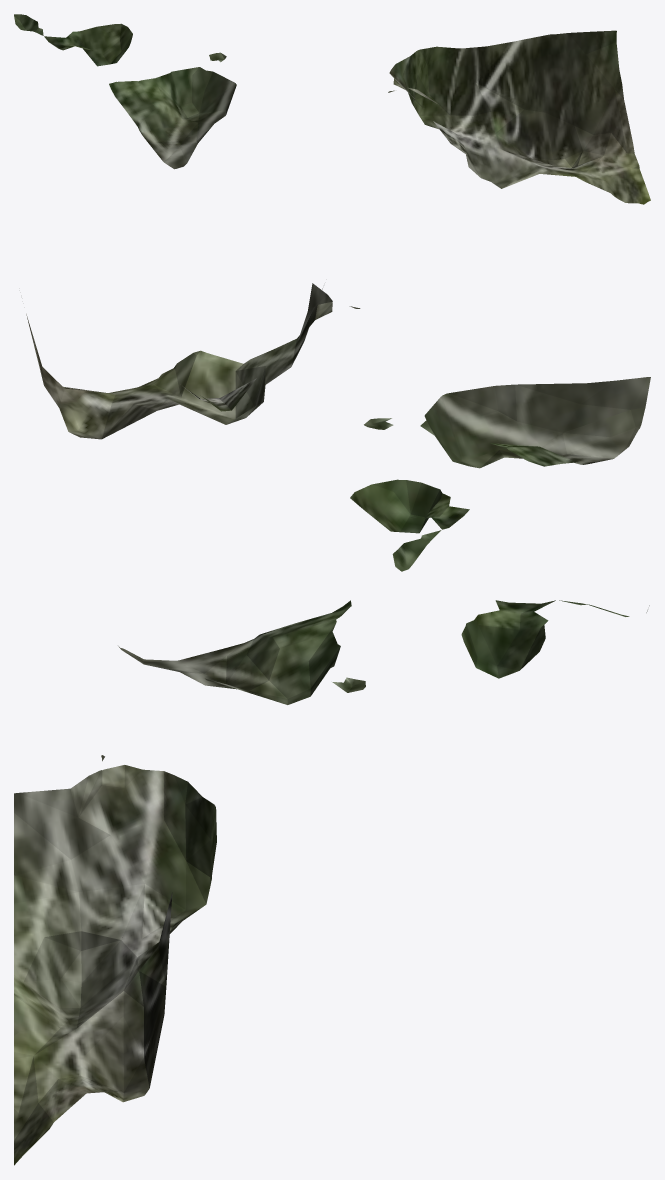
The picture shows the model from 3 angles, top to bottom: view 1: azimuth 30°, elevation 25°; view 2: azimuth 150°, elevation 25°; view 3: azimuth 270°, elevation 25°; orthographic projection. The views are drawn at different scales.
Size of the model in its own units: 2.95 by 0.9539 by 2.36.
Materials: 1 (1 with a texture image).
